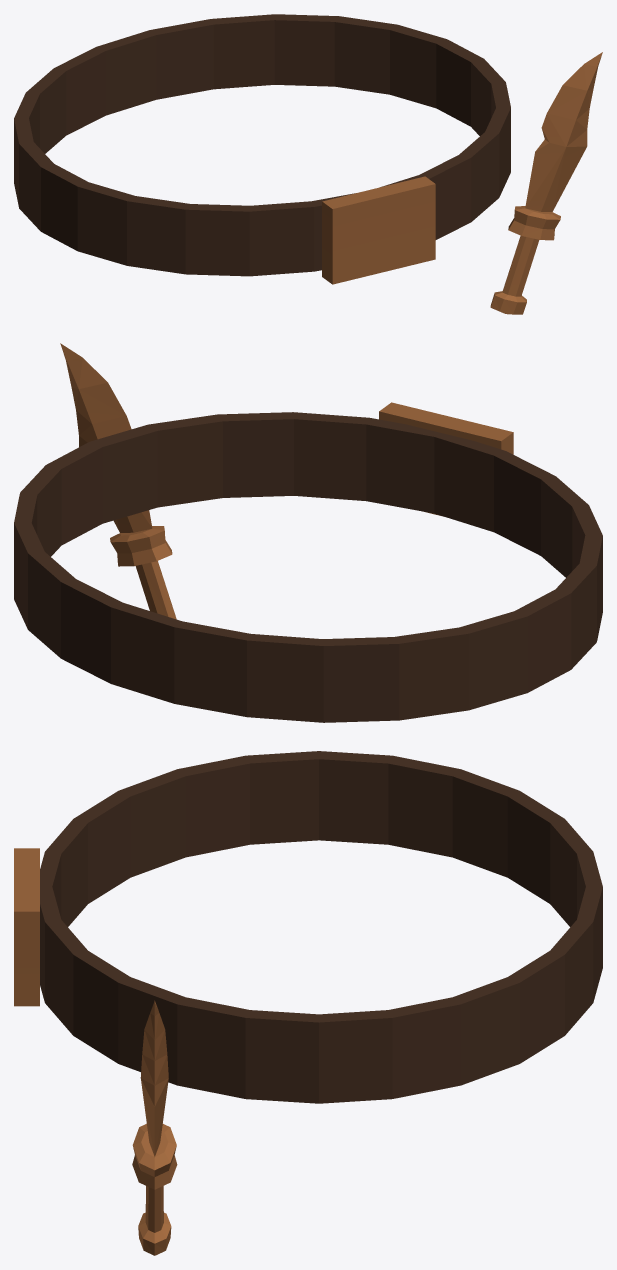
The model's file is hobbit_cinto_1.glb.
3 renders of one model, top to bottom at view 1: azimuth 30°, elevation 25°; view 2: azimuth 150°, elevation 25°; view 3: azimuth 270°, elevation 25°, orthographic. The views are drawn at different scales.
Parts seen in each view (by area): view 1: hobbit_cinto_1; view 2: hobbit_cinto_1; view 3: hobbit_cinto_1.
Boxes of the visible parts, x1=… form: hobbit_cinto_1: x1=14, y1=14, x2=602, y2=314; hobbit_cinto_1: x1=14, y1=343, x2=602, y2=722; hobbit_cinto_1: x1=14, y1=751, x2=602, y2=1255.
Size of the model in its own units: 0.9634 by 0.4465 by 0.7885.
1 material, 1 textured.
